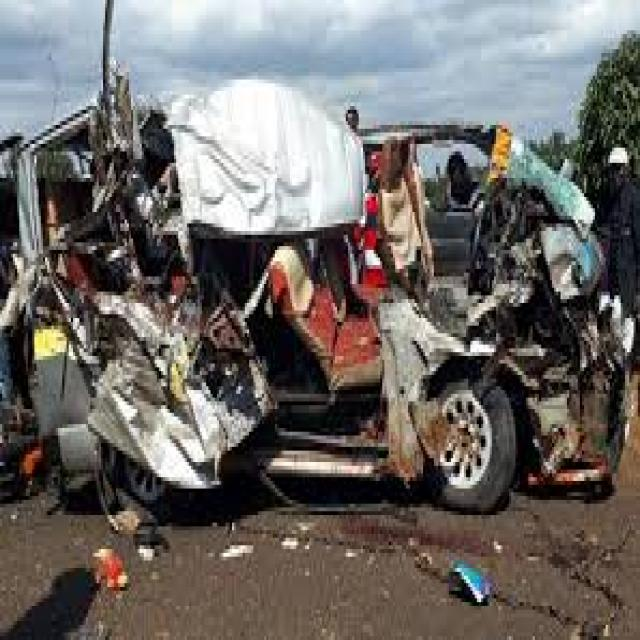accident: (3, 32, 629, 557)
